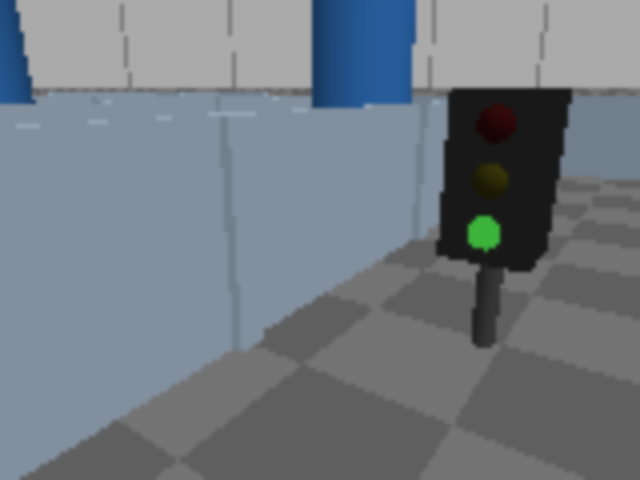person: (0, 0, 44, 196)
traffic_light: (429, 70, 575, 375)
